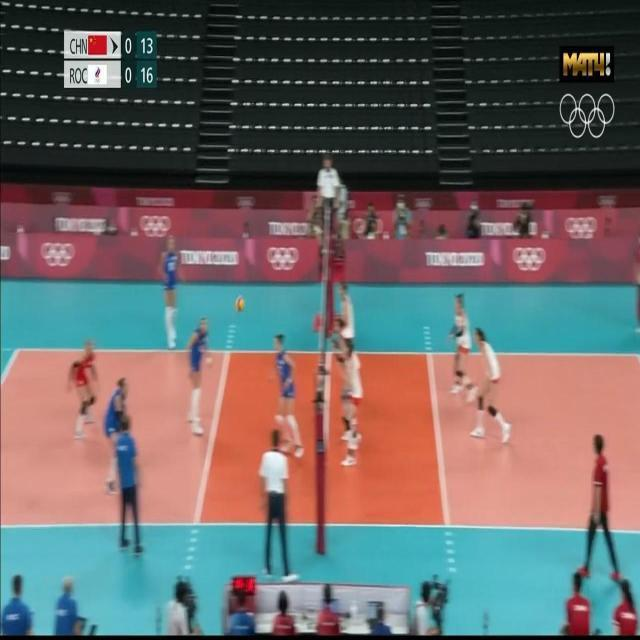volleyball: (233, 294, 247, 312)
